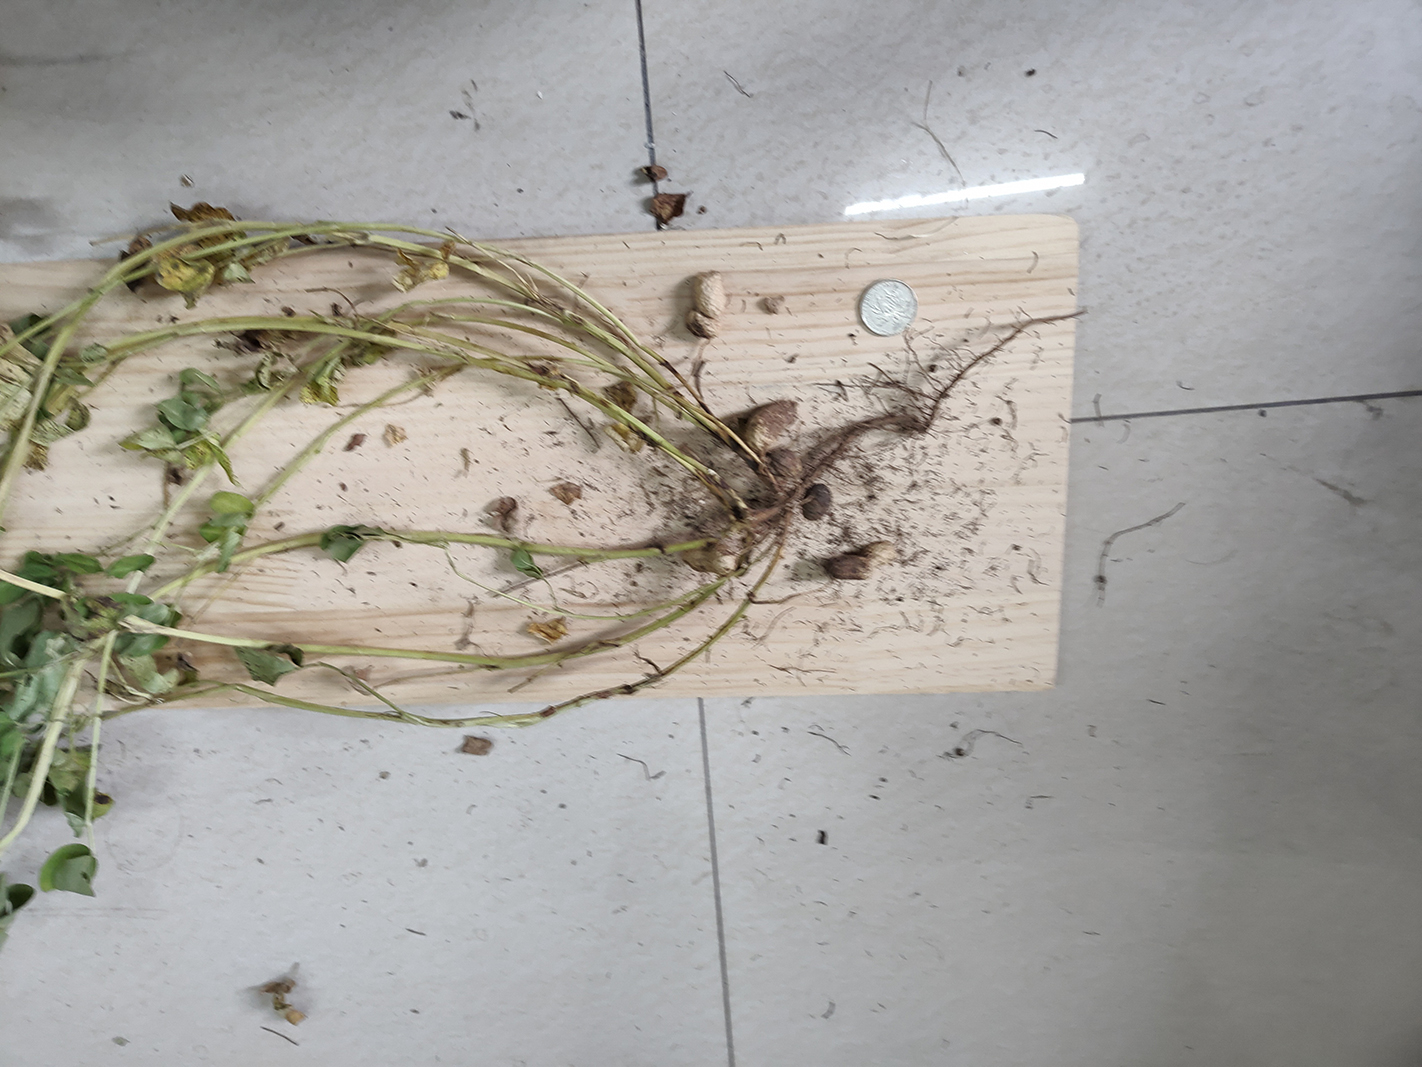h: (685, 270, 726, 338), (684, 547, 738, 574)
l: (743, 401, 797, 449), (822, 542, 884, 579), (801, 484, 831, 521), (765, 448, 802, 477)
